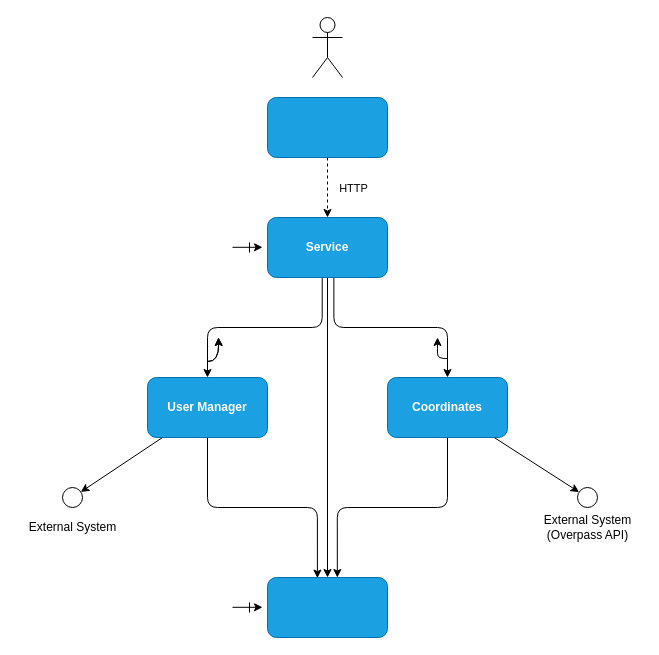
This 659x655 diagram has some shape labels left out. Each missing label, with the box of its shape:
Data: (266, 576, 388, 638)
GUI: (266, 96, 388, 158)
